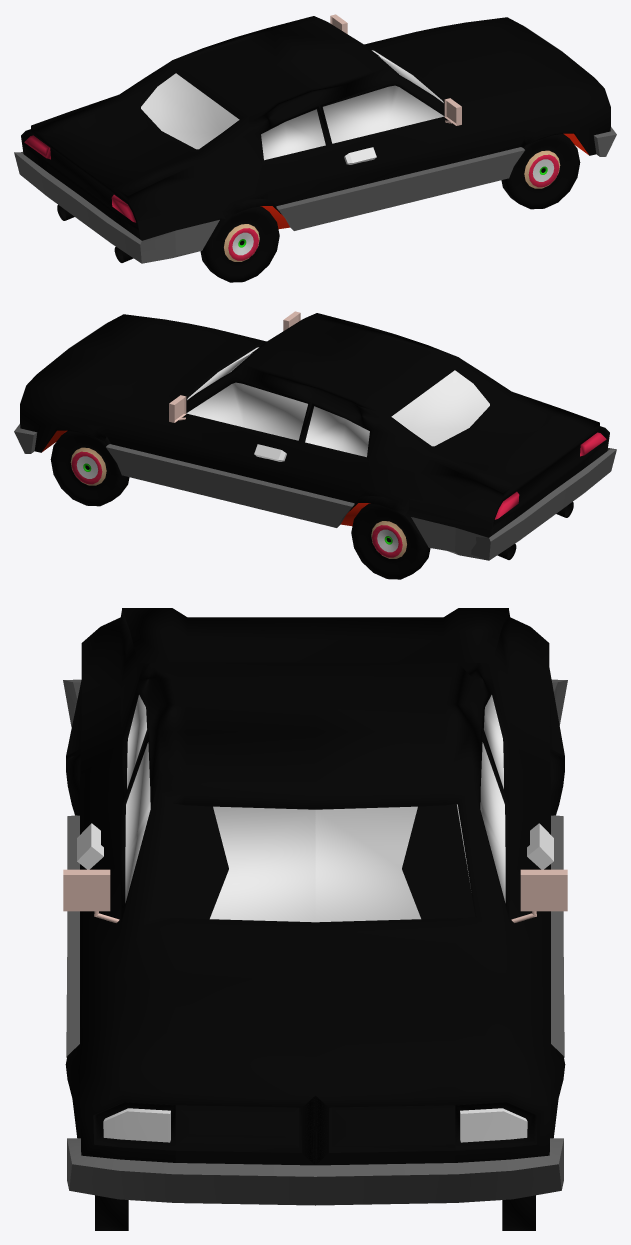
Rendered from Red Car.fbx.
The picture shows the model from 3 angles, top to bottom: view 1: azimuth 30°, elevation 25°; view 2: azimuth 150°, elevation 25°; view 3: azimuth 270°, elevation 25°; orthographic projection. The views are drawn at different scales.
Visible parts, largest first — view 1: Body, Bumpers, Cube.001, Body.001, Cube; view 2: Body, Bumpers, Cube.001, Body.001, Cube; view 3: Body, Bumpers, Plane, Cube.001, Body.001, Cube.
Boxes of the visible parts, <box> form: Body: <box>21,16,610,282</box>; Bumpers: <box>14,127,616,263</box>; Cube.001: <box>330,14,461,125</box>; Body.001: <box>260,133,588,229</box>; Cube: <box>344,147,376,164</box>; Body: <box>20,313,609,579</box>; Bumpers: <box>14,424,616,560</box>; Cube.001: <box>169,311,300,422</box>; Body.001: <box>42,430,370,526</box>; Cube: <box>254,444,286,461</box>; Body: <box>65,608,565,1230</box>; Bumpers: <box>63,679,567,1205</box>; Plane: <box>154,803,475,919</box>; Cube.001: <box>63,869,567,911</box>; Body.001: <box>103,1108,527,1142</box>; Cube: <box>77,823,553,869</box>.
Bounding box in the file's own units: 319 × 97.4 × 142.
